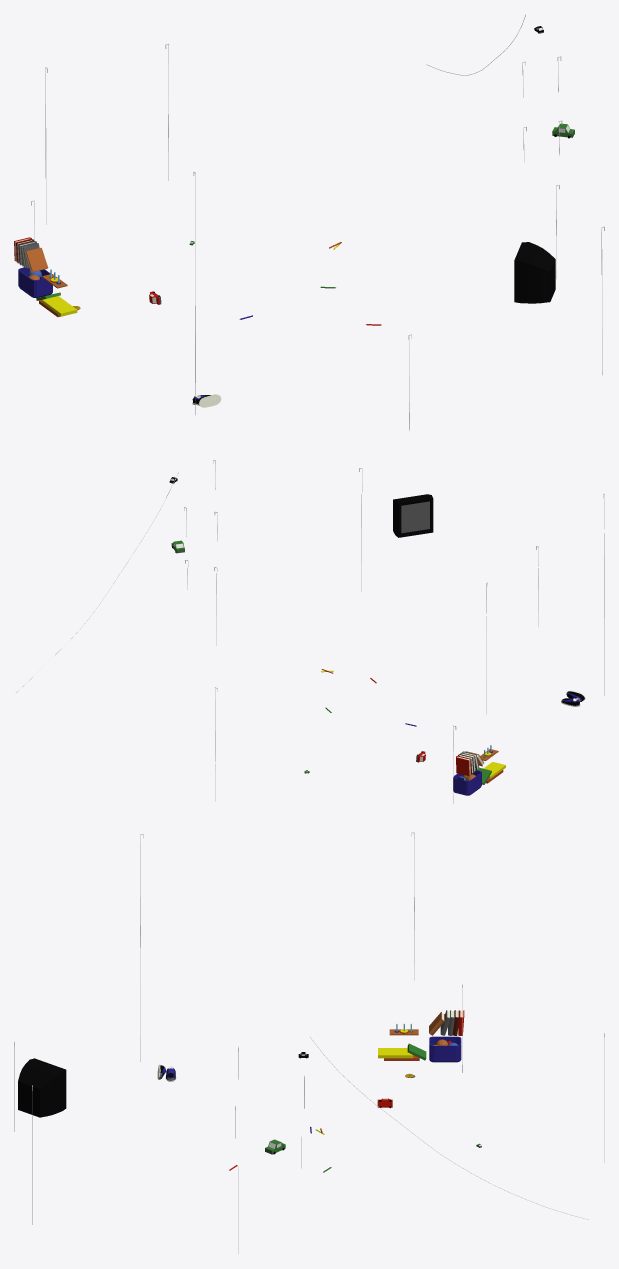
The model's file is Brinquedos.fbx.
The picture shows the model from 3 angles, top to bottom: view 1: azimuth 30°, elevation 25°; view 2: azimuth 150°, elevation 25°; view 3: azimuth 270°, elevation 25°; orthographic projection. The views are drawn at different scales.
Visible parts, largest first — view 1: Tv, CaixaBola; view 2: Tv, CaixaBola; view 3: Tv, CaixaBola.
Boxes of the visible parts, left/top/right/bottom form: Tv: left=514, top=242, right=555, bottom=303; CaixaBola: left=18, top=266, right=52, bottom=297; Tv: left=393, top=494, right=433, bottom=537; CaixaBola: left=453, top=770, right=481, bottom=795; Tv: left=18, top=1058, right=66, bottom=1117; CaixaBola: left=429, top=1036, right=461, bottom=1062.
Bounding box in the file's own units: 22349 × 11117 × 25407.
